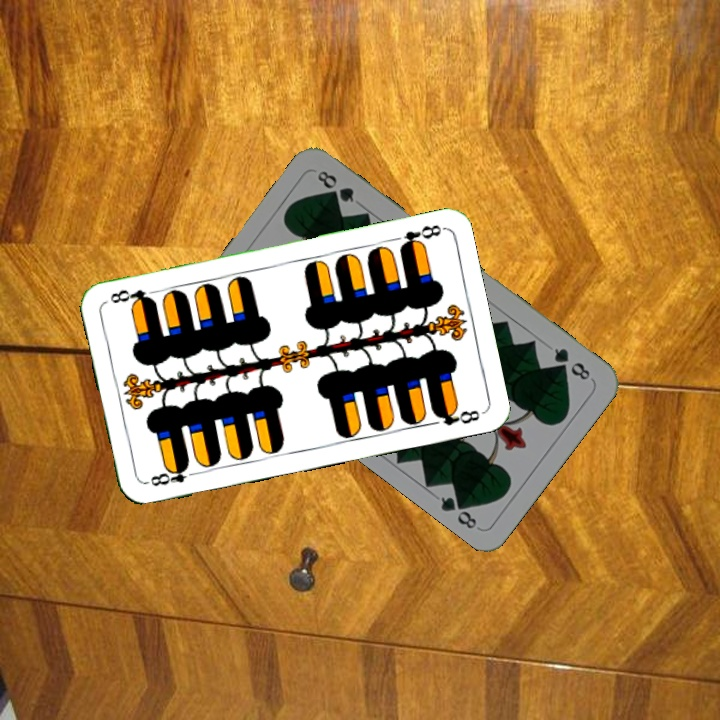E8: (142, 460, 201, 489), (395, 220, 446, 252)
G8: (549, 343, 593, 383)
